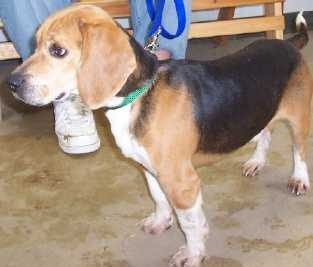Dog: (9, 4, 280, 266)
